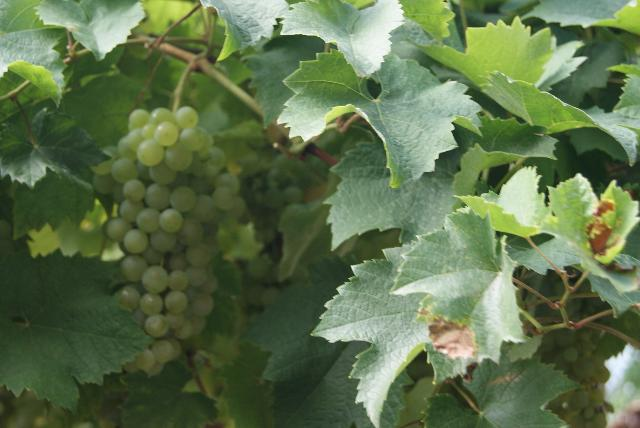grapes: (92, 106, 239, 375)
